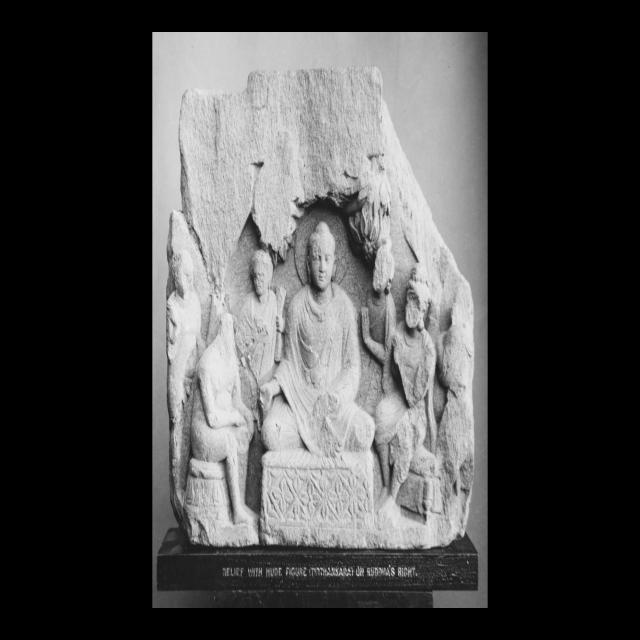buddha-sitting: (261, 222, 375, 458)
